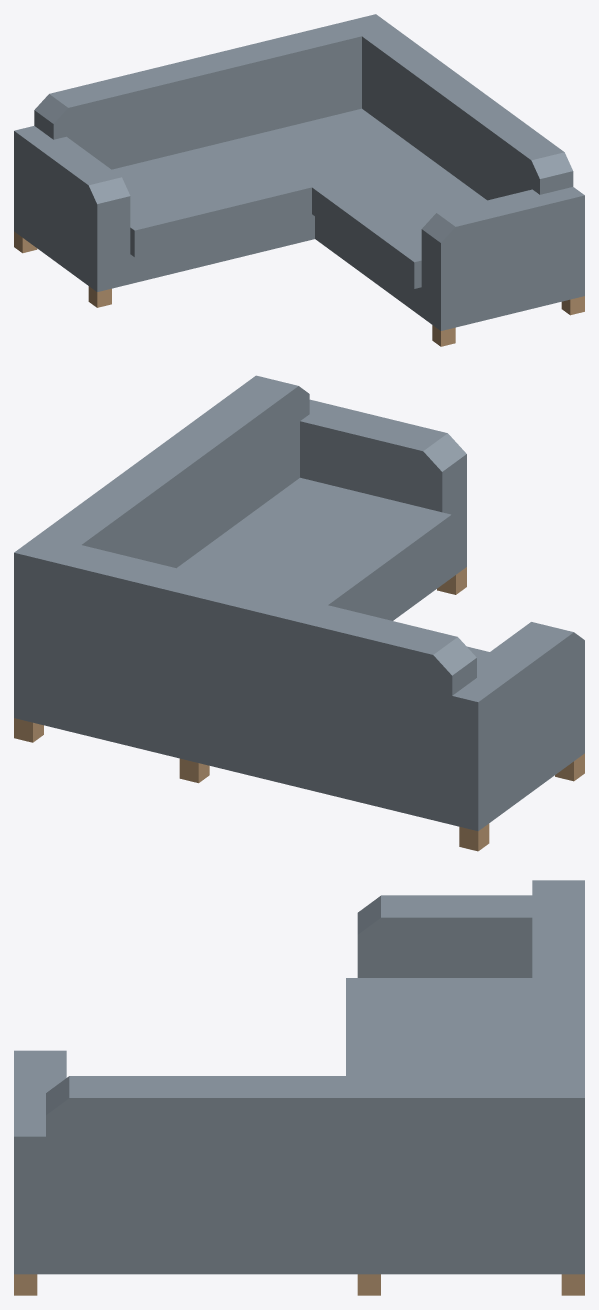
File: sofa-corner.glb
The picture shows the model from 3 angles, top to bottom: view 1: azimuth 30°, elevation 25°; view 2: azimuth 150°, elevation 25°; view 3: azimuth 270°, elevation 25°; orthographic projection. The views are drawn at different scales.
Visible parts, largest first — view 1: sofa-corner; view 2: sofa-corner; view 3: sofa-corner.
Part boxes in pixels (x1,y1,x2,y2): sofa-corner: (14, 14, 584, 346); sofa-corner: (14, 375, 584, 851); sofa-corner: (14, 880, 584, 1295).
Size of the model in its own units: 2.2 by 0.84 by 2.2.
